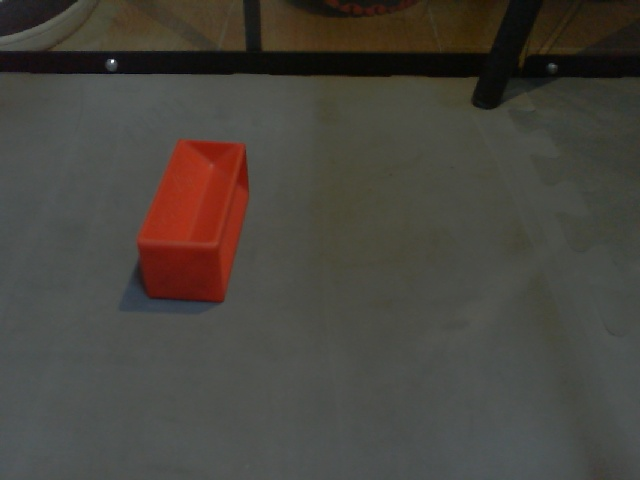RedSample: (133, 133, 255, 309)
